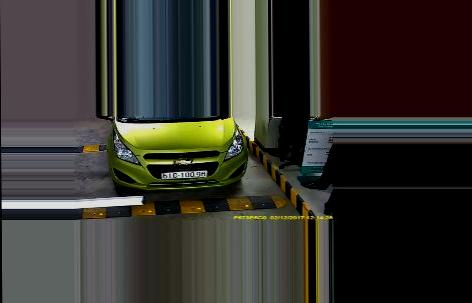License_Plate: (161, 169, 209, 180)
